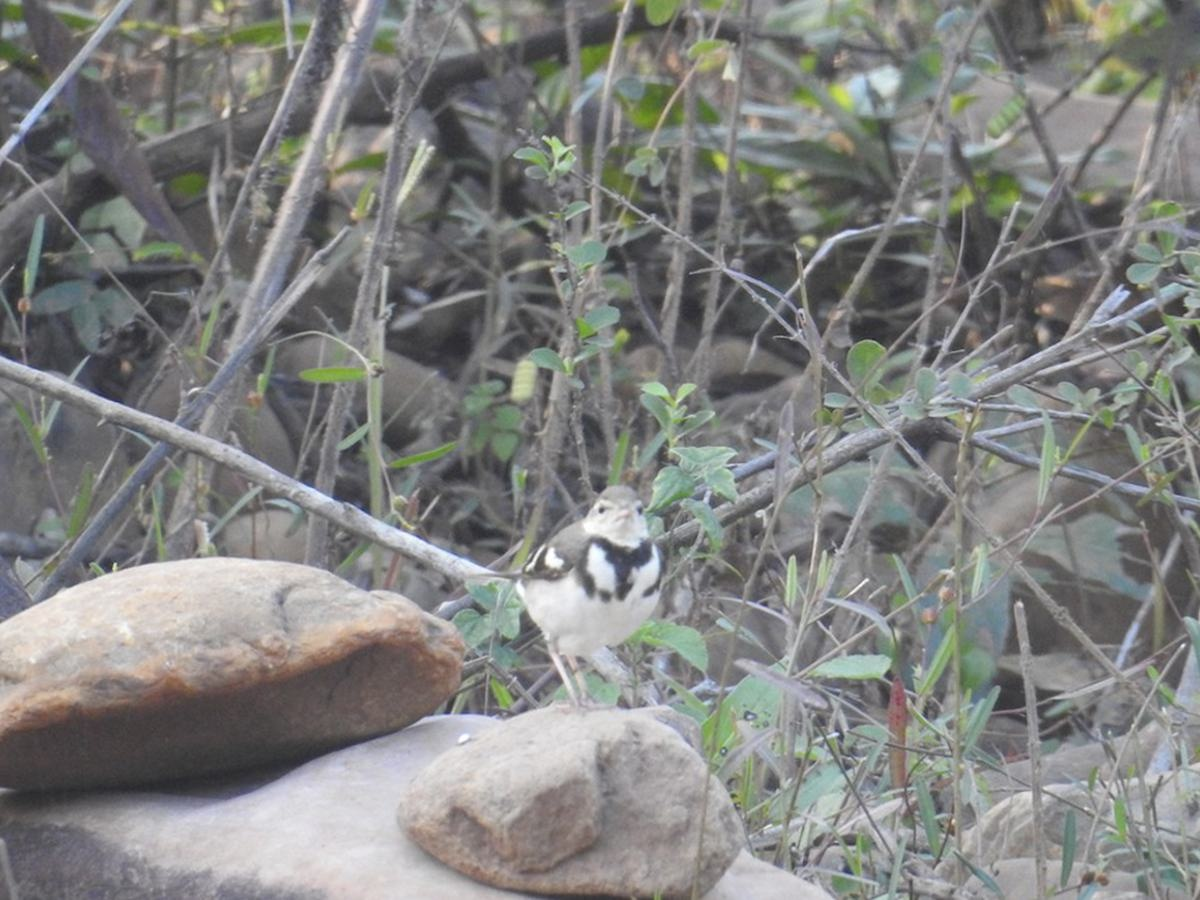wagtail: (498, 490, 678, 692)
